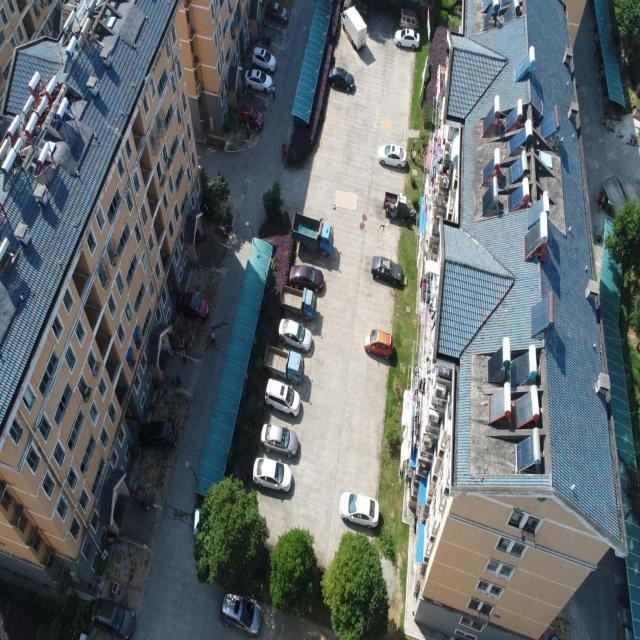p3rson: (181, 348, 188, 365), (271, 83, 276, 100), (174, 372, 182, 382), (210, 330, 215, 346)
